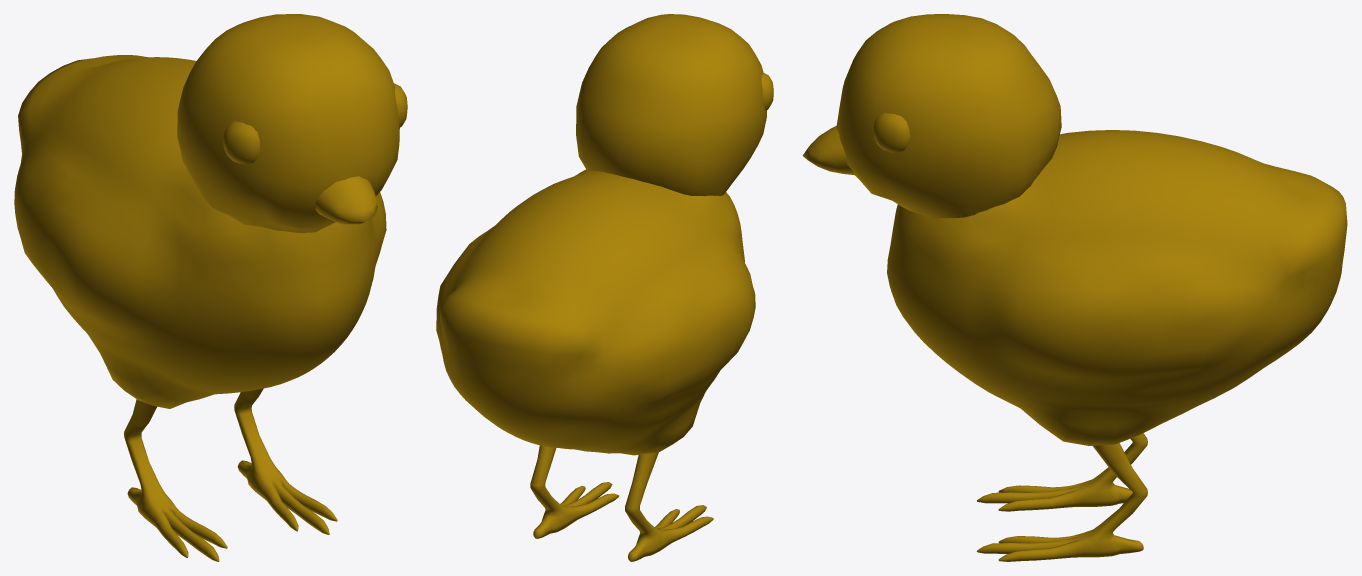
File: pinto_dourado.fbx
3 views of the same model, side by side, from view 1: azimuth 30°, elevation 25°; view 2: azimuth 150°, elevation 25°; view 3: azimuth 270°, elevation 25° (orthographic). The views are drawn at different scales.
Parts seen in each view (by area): view 1: Cube.003; view 2: Cube.003; view 3: Cube.003.
Boxes of the visible parts, bbox=[...] form: Cube.003: bbox=[14, 14, 407, 561]; Cube.003: bbox=[436, 14, 773, 561]; Cube.003: bbox=[802, 14, 1347, 561].
Bounding box in the file's own units: 307 × 515 × 509.
